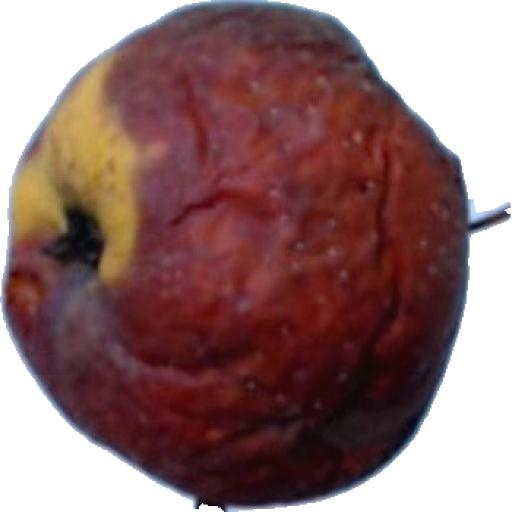apple-overripe: (0, 0, 512, 502)
